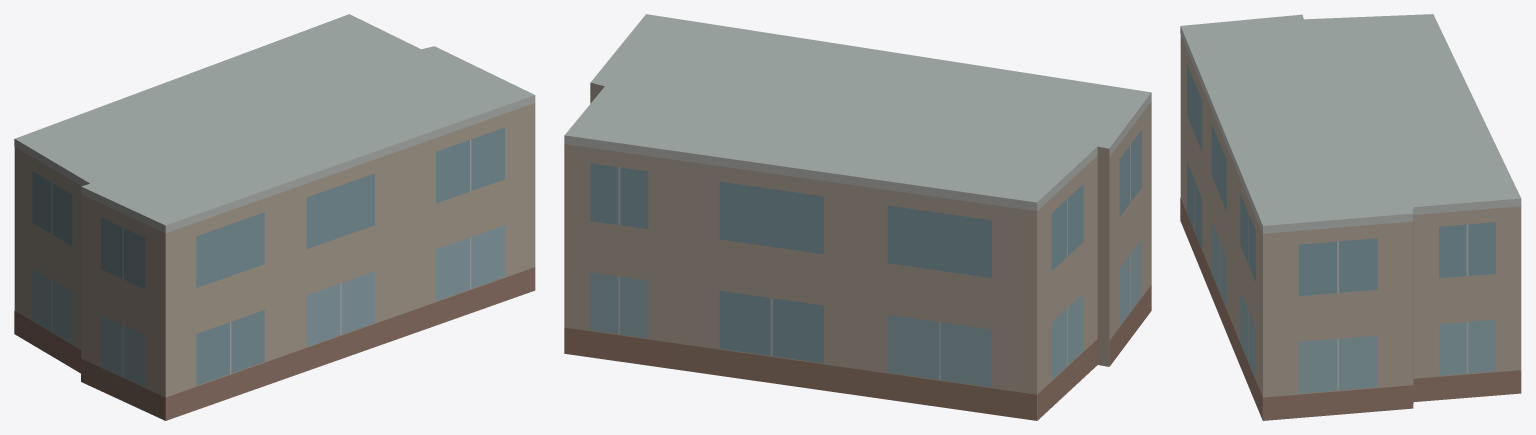
The model's file is survey-upis-32658417.glb.
The picture shows the model from 3 angles, left to right: view 1: azimuth 30°, elevation 25°; view 2: azimuth 150°, elevation 25°; view 3: azimuth 270°, elevation 25°; orthographic projection. The views are drawn at different scales.
Parts seen in each view (by area): view 1: survey-upis-32658417.tmp; view 2: survey-upis-32658417.tmp; view 3: survey-upis-32658417.tmp.
Boxes of the visible parts, box(x1,y1,x2,y2) form: survey-upis-32658417.tmp: box(14, 14, 535, 420); survey-upis-32658417.tmp: box(564, 14, 1151, 420); survey-upis-32658417.tmp: box(1180, 14, 1521, 420).
Bounding box in the file's own units: 14.24 × 6.1 × 9.68.
